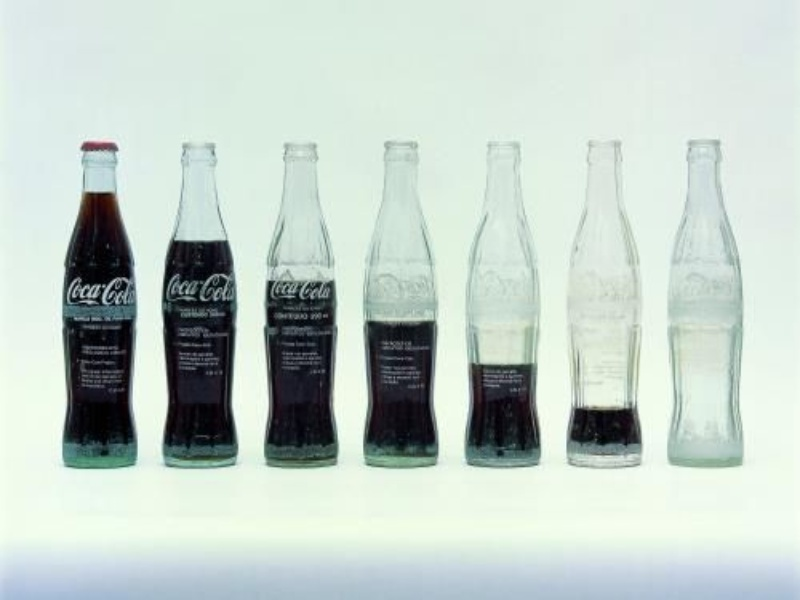Glass bottle: (23, 114, 152, 488), (233, 115, 357, 493), (541, 119, 659, 476), (650, 110, 762, 485), (133, 129, 250, 480), (451, 120, 558, 484), (347, 127, 452, 490)
